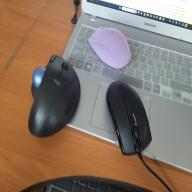mouse: (28, 54, 80, 137), (107, 80, 152, 159), (87, 25, 132, 70)
